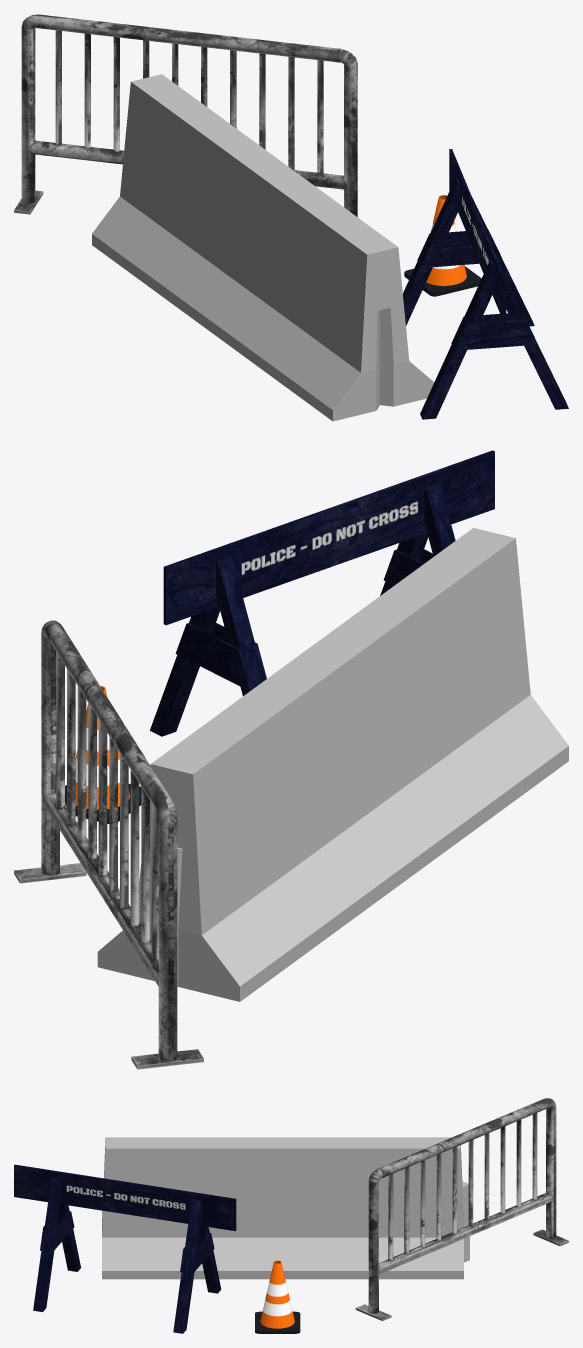
File: barrier_scene.gltf
3 renders of one model, top to bottom at view 1: azimuth 30°, elevation 25°; view 2: azimuth 150°, elevation 25°; view 3: azimuth 270°, elevation 25°, orthographic. The views are drawn at different scales.
Visible parts, largest first — view 1: CementBarrier, MetalBarrier, WoodenBarrier, Cone; view 2: CementBarrier, MetalBarrier, WoodenBarrier, Cone; view 3: CementBarrier, MetalBarrier, WoodenBarrier, Cone.
Part boxes in pixels (left/top/right/bottom): CementBarrier: left=92, top=74, right=434, bottom=421; MetalBarrier: left=14, top=14, right=357, bottom=216; WoodenBarrier: left=403, top=149, right=568, bottom=419; Cone: left=404, top=195, right=481, bottom=296; CementBarrier: left=97, top=528, right=568, bottom=1001; MetalBarrier: left=14, top=620, right=203, bottom=1069; WoodenBarrier: left=150, top=450, right=494, bottom=736; Cone: left=65, top=685, right=141, bottom=823; CementBarrier: left=102, top=1137, right=469, bottom=1279; MetalBarrier: left=355, top=1098, right=568, bottom=1321; WoodenBarrier: left=14, top=1164, right=236, bottom=1333; Cone: left=255, top=1260, right=300, bottom=1333.
Size of the model in its own units: 5.36 by 3.48 by 12.27.
